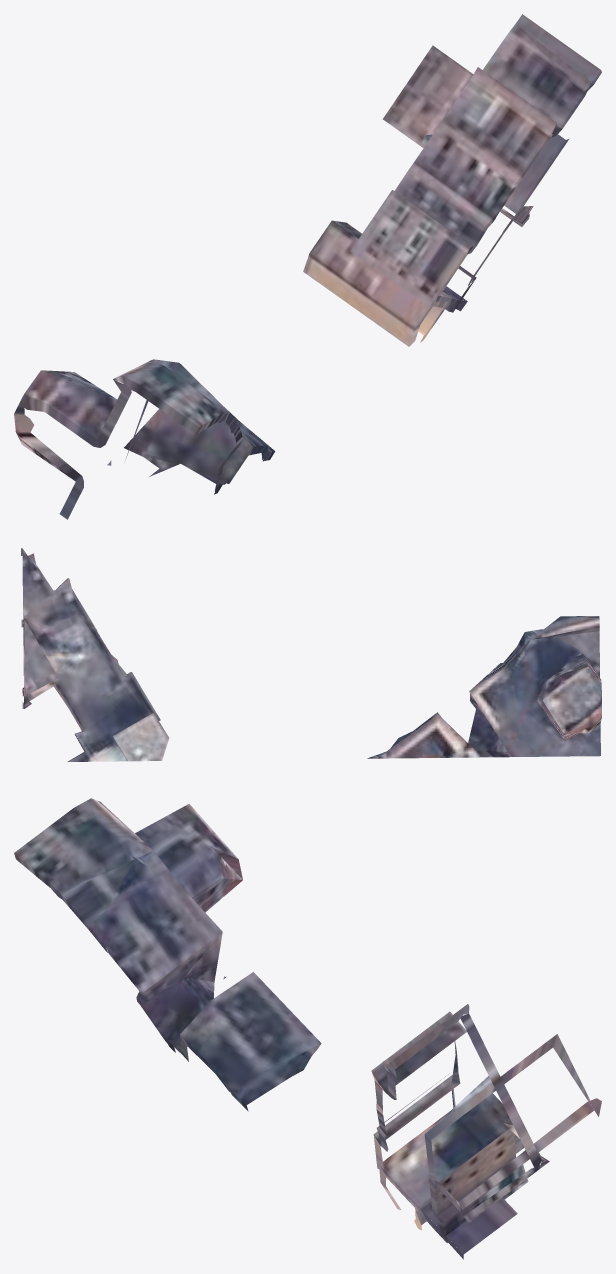
The picture shows the model from 3 angles, top to bottom: view 1: azimuth 30°, elevation 25°; view 2: azimuth 150°, elevation 25°; view 3: azimuth 270°, elevation 25°; orthographic projection. The views are drawn at different scales.
Bounding box in the file's own units: 71.46 × 27.99 × 51.77.
1 material, 1 textured.
